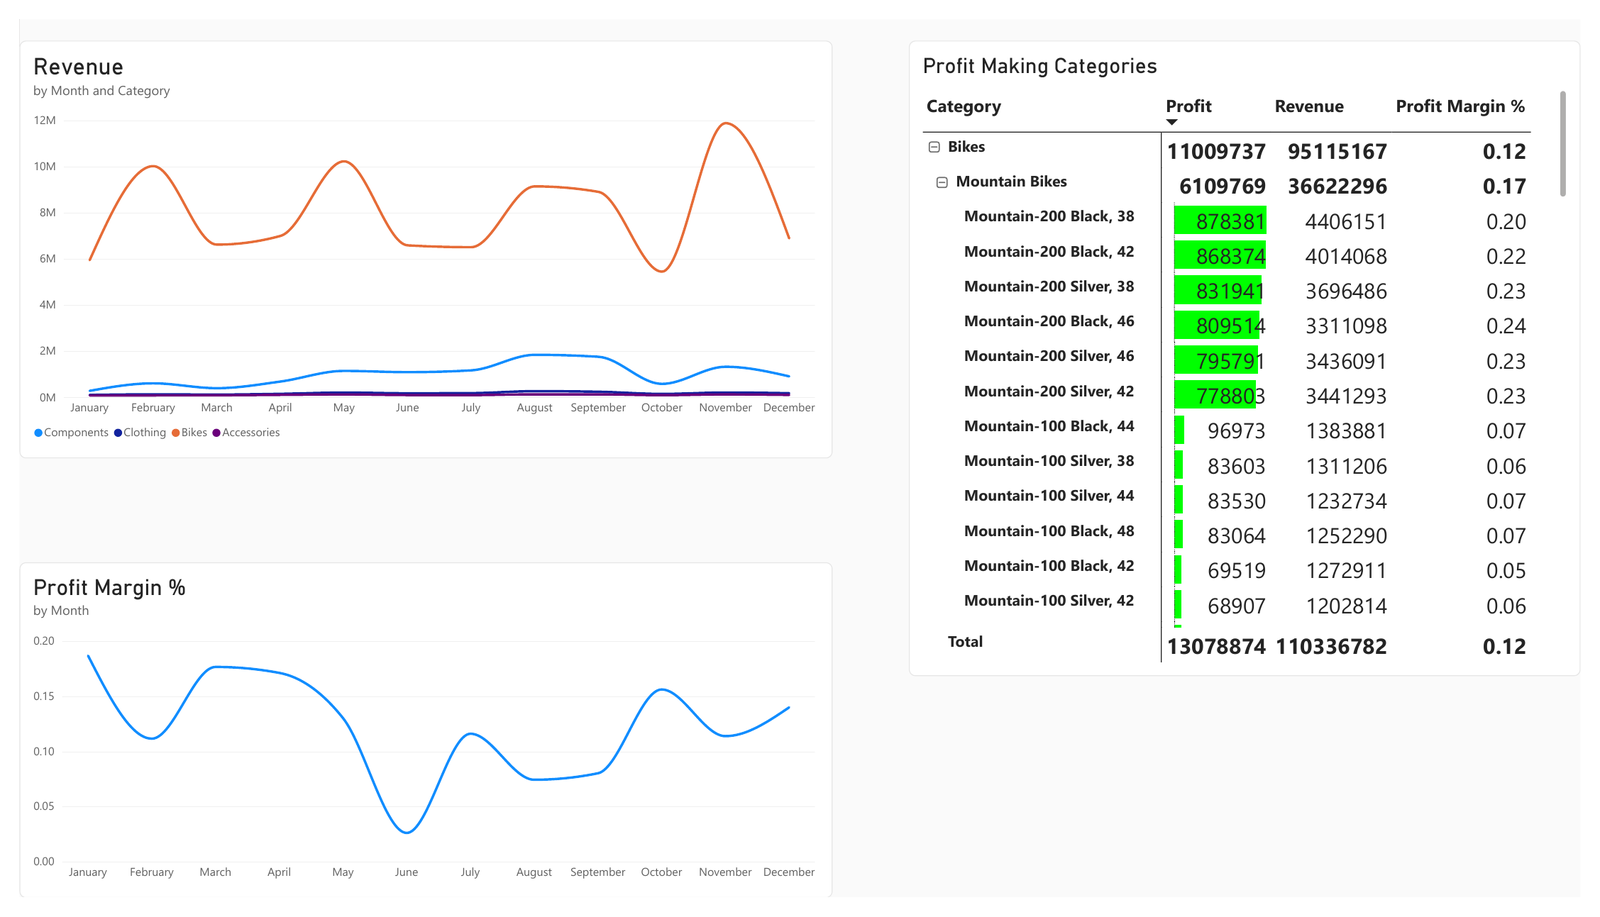

This screenshot's page, from the dashboard's own definition file:
{"tool":"powerbi","page":{"name":"Category & Margin Trends","canvas":[1920,1080],"ordinal":4},"visuals":[{"type":"lineChart","fields":{"Category":["DimDate.Date.Variation.Date Hierarchy.Year","DimDate.Date.Variation.Date Hierarchy.Quarter","DimDate.Date.Variation.Date Hierarchy.Month","DimDate.Date.Variation.Date Hierarchy.Day"],"Y":["_measure.Profit Margin %"]},"box":[0,668,1000,412.5],"z":1000},{"type":"pivotTable","title":"Profit Making Categories","fields":{"Rows":["Dim_Product.Category","Dim_Product.Subcategory","Dim_Product.Product"],"Values":["_measure.Profit","_measure.Revenue","_measure.Profit Margin %"]},"box":[1094,26,826,782],"z":1001},{"type":"lineChart","fields":{"Category":["DimDate.Date.Variation.Date Hierarchy.Year","DimDate.Date.Variation.Date Hierarchy.Quarter","DimDate.Date.Variation.Date Hierarchy.Month","DimDate.Date.Variation.Date Hierarchy.Day"],"Series":["Dim_Product.Category"],"Y":["_measure.Revenue"]},"box":[0,26,1000,514],"z":1002}]}

Visuals, with their boxes in screenshot pixels (x1, y1, x2, y2), scaled from the page's 1920x1080 canvas onto the 1600x917 screenshot:
lineChart - DimDate.Date.Variation.Date Hierarchy.Year x DimDate.Date.Variation.Date Hierarchy.Quarter: bbox(0, 567, 833, 916)
"Profit Making Categories" pivotTable: bbox(912, 22, 1599, 686)
lineChart - DimDate.Date.Variation.Date Hierarchy.Year x DimDate.Date.Variation.Date Hierarchy.Quarter: bbox(0, 22, 833, 458)
